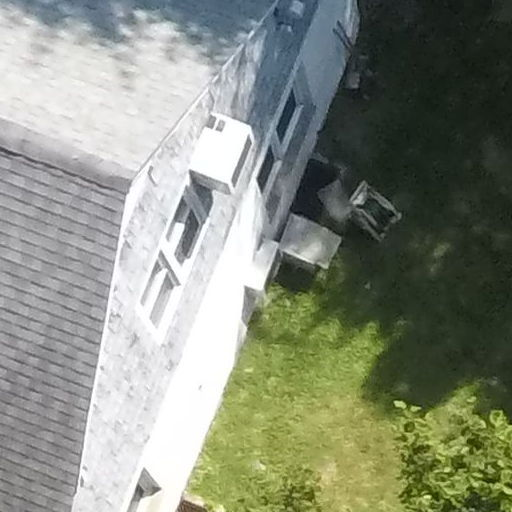hose: (335, 172, 407, 241)
